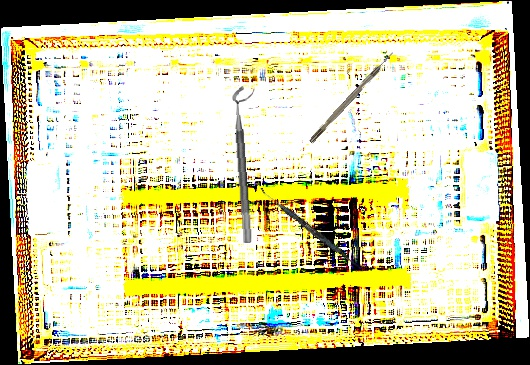Fixation Ring: (231, 85, 266, 244)
Hook Surgical: (308, 50, 396, 144)
Spatula Surgical: (256, 187, 364, 270)
